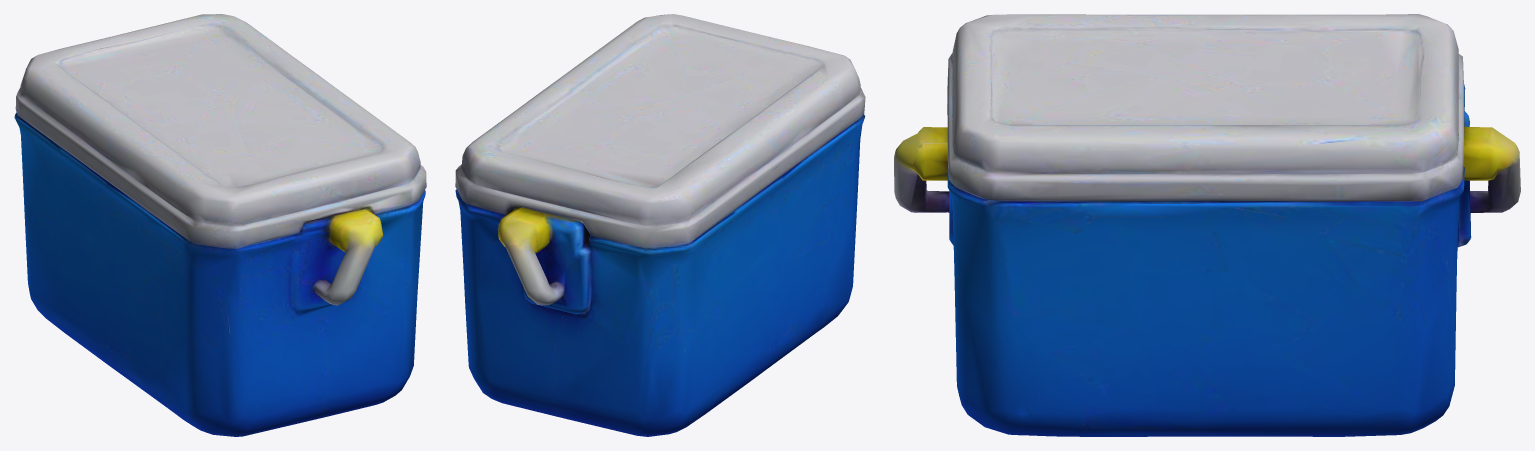
File: cooler.glb
3 renders of one model, left to right at view 1: azimuth 30°, elevation 25°; view 2: azimuth 150°, elevation 25°; view 3: azimuth 270°, elevation 25°, orthographic. The views are drawn at different scales.
Visible parts, largest first — view 1: tripo_node_f9d9c2ac-13d2-4a1e-909d-b40b0e02d702; view 2: tripo_node_f9d9c2ac-13d2-4a1e-909d-b40b0e02d702; view 3: tripo_node_f9d9c2ac-13d2-4a1e-909d-b40b0e02d702.
Boxes of the visible parts, x1=… form: tripo_node_f9d9c2ac-13d2-4a1e-909d-b40b0e02d702: x1=14, y1=14, x2=426, y2=436; tripo_node_f9d9c2ac-13d2-4a1e-909d-b40b0e02d702: x1=455, y1=14, x2=865, y2=436; tripo_node_f9d9c2ac-13d2-4a1e-909d-b40b0e02d702: x1=894, y1=14, x2=1520, y2=436.
Size of the model in its own units: 0.5379 by 0.5541 by 1.
1 material, 1 textured.
